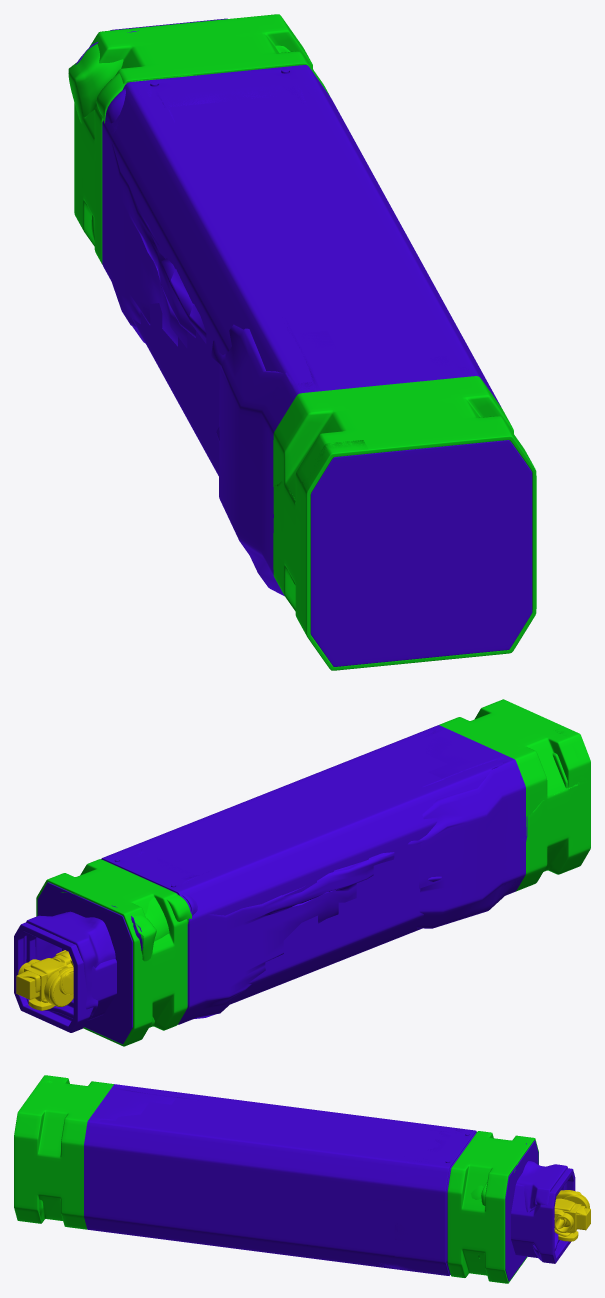
Rendered from Part A Combined.fbx.
The picture shows the model from 3 angles, top to bottom: view 1: azimuth 30°, elevation 25°; view 2: azimuth 150°, elevation 25°; view 3: azimuth 270°, elevation 25°; orthographic projection. The views are drawn at different scales.
Parts seen in each view (by area): view 1: Cannister Good.001, Cannister Good.002, Cannister Broken; view 2: Cannister Good.001, Cannister Good.002, Cannister Broken; view 3: Cannister Good.001, Cannister Good.002, Cannister Broken.
Part boxes in pixels (<box>): Cannister Good.001: <box>74,14,536,670</box>; Cannister Good.002: <box>75,14,536,670</box>; Cannister Broken: <box>68,30,532,668</box>; Cannister Good.001: <box>14,699,590,1046</box>; Cannister Good.002: <box>14,699,590,1045</box>; Cannister Broken: <box>17,727,590,1026</box>; Cannister Good.001: <box>14,1077,590,1283</box>; Cannister Good.002: <box>18,1075,590,1283</box>; Cannister Broken: <box>39,1076,586,1258</box>.
Size of the model in its own units: 77.36 by 36.93 by 170.
